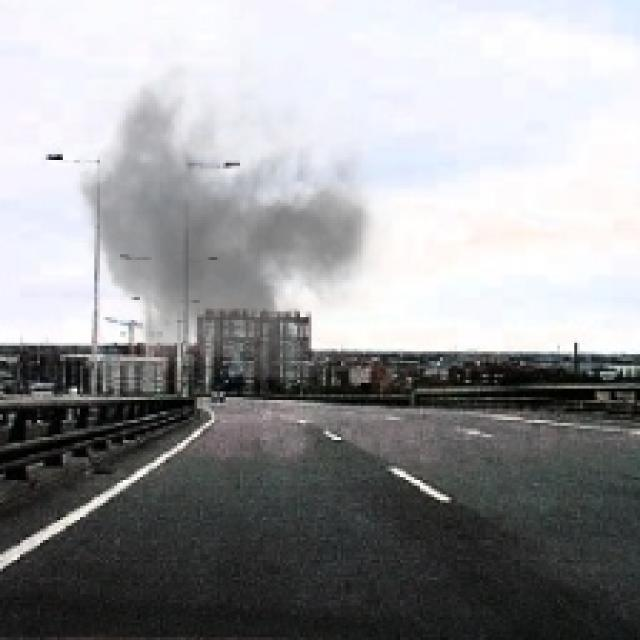Smoke: (54, 17, 400, 403)
